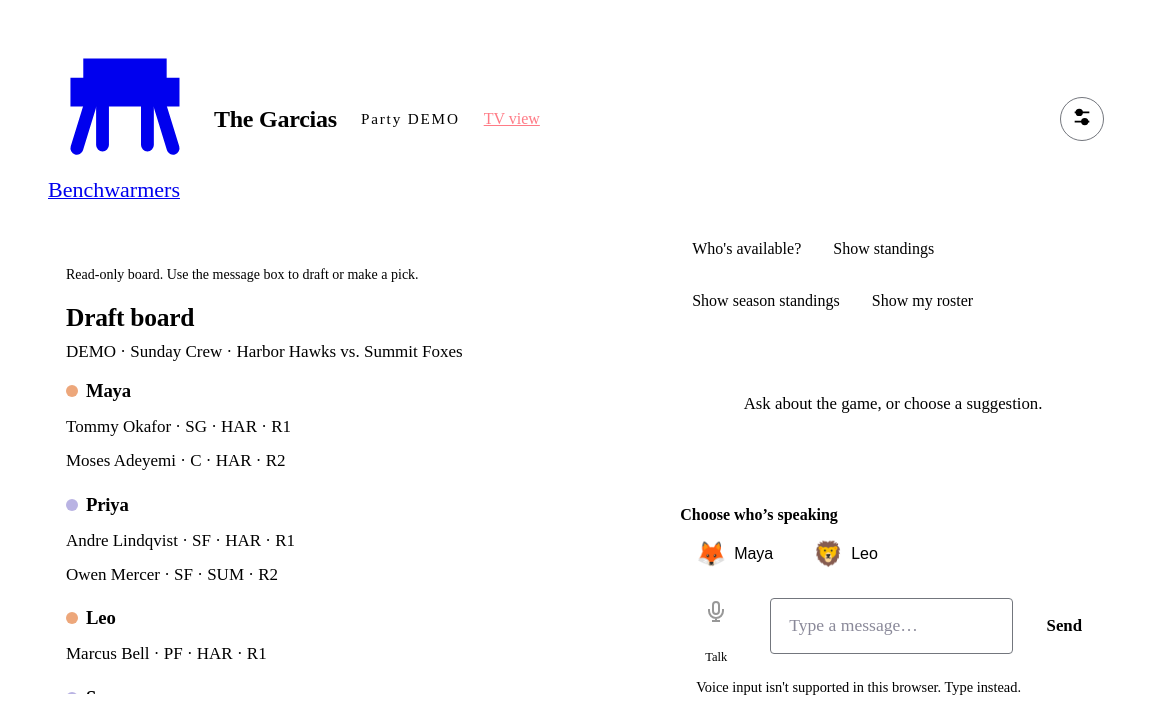
it: DeviceScreen › settings is modal, closes on Escape and restores focus
Click the button named "Settings" at [1082, 119], box [1060,97,1104,141]
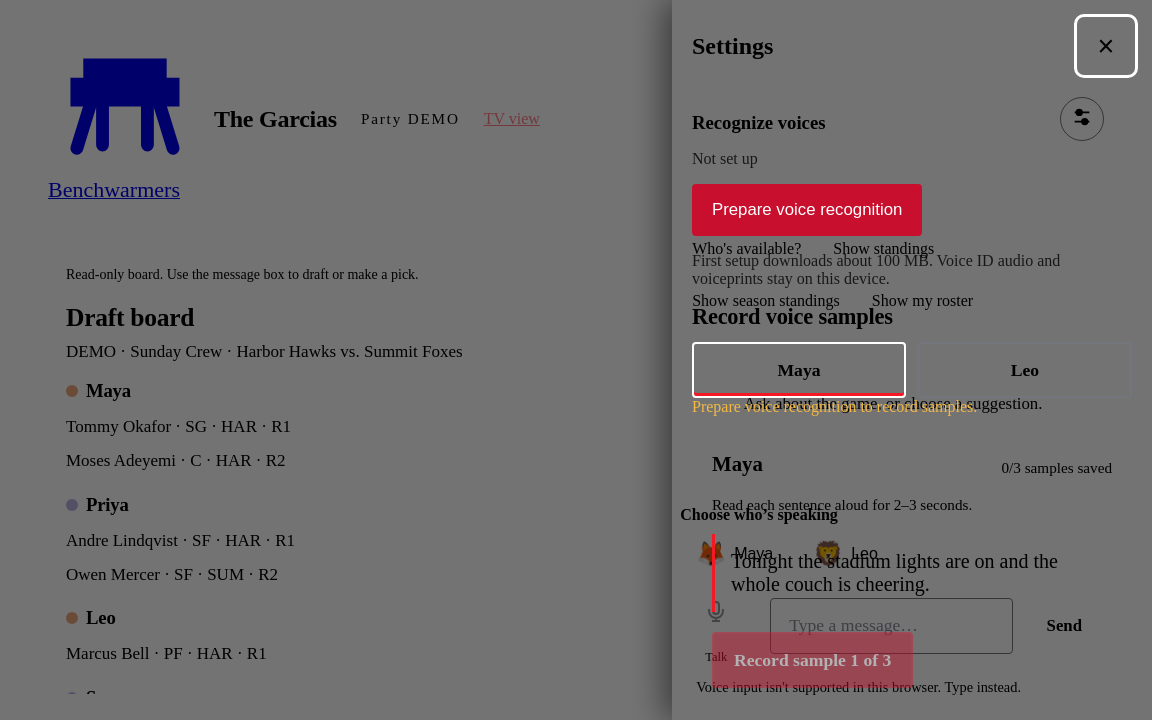
Press Escape in the dialog "Settings", box [672,0,1151,719]
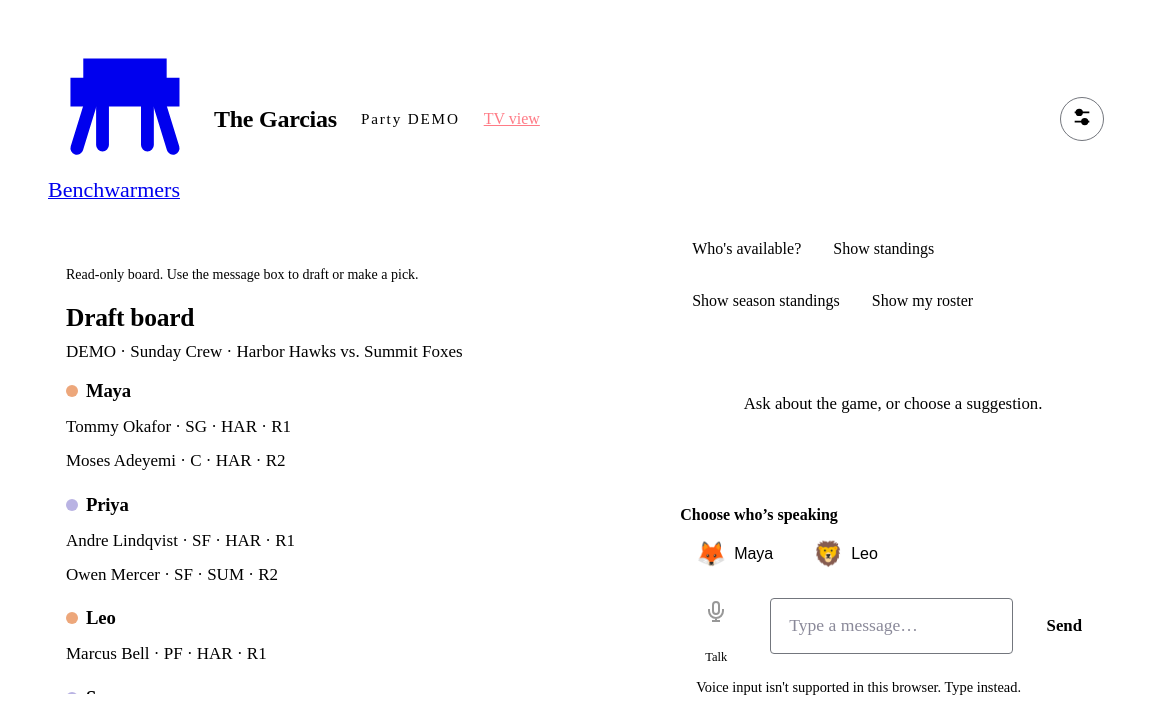
Check: the dialog is gone
